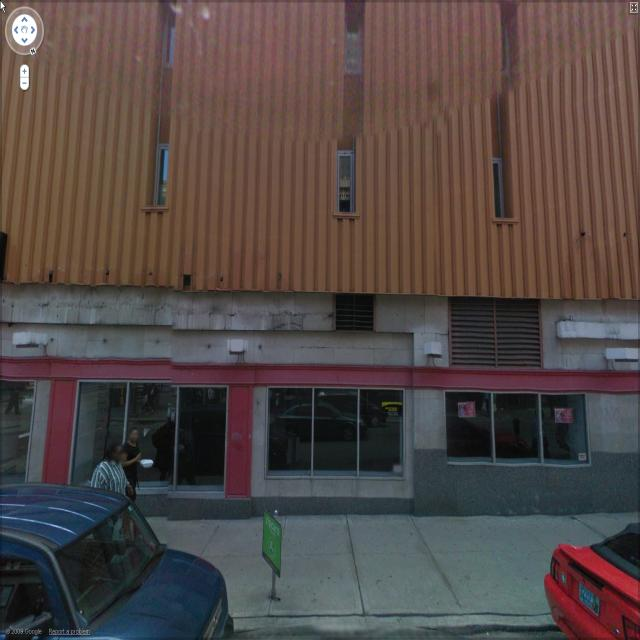b_1: (5, 7, 632, 504)
